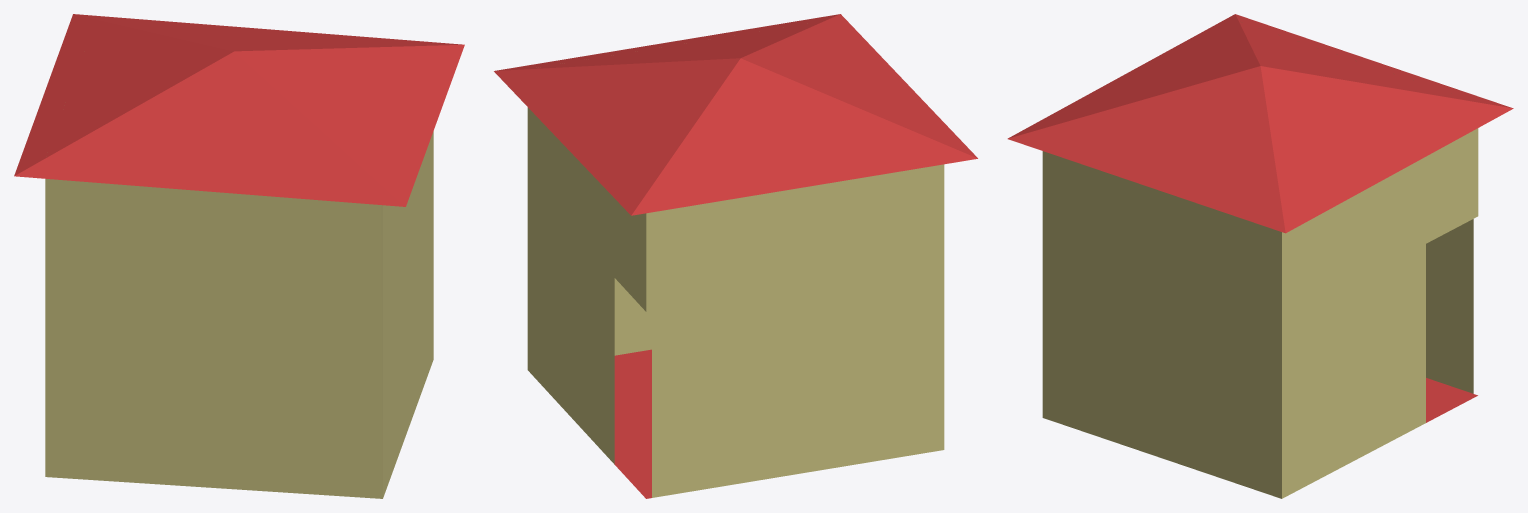
The picture shows the model from 3 angles, left to right: view 1: azimuth 30°, elevation 25°; view 2: azimuth 150°, elevation 25°; view 3: azimuth 270°, elevation 25°; orthographic projection. The views are drawn at different scales.
Bounding box in the file's own units: 15.08 × 15.05 × 11.09.
